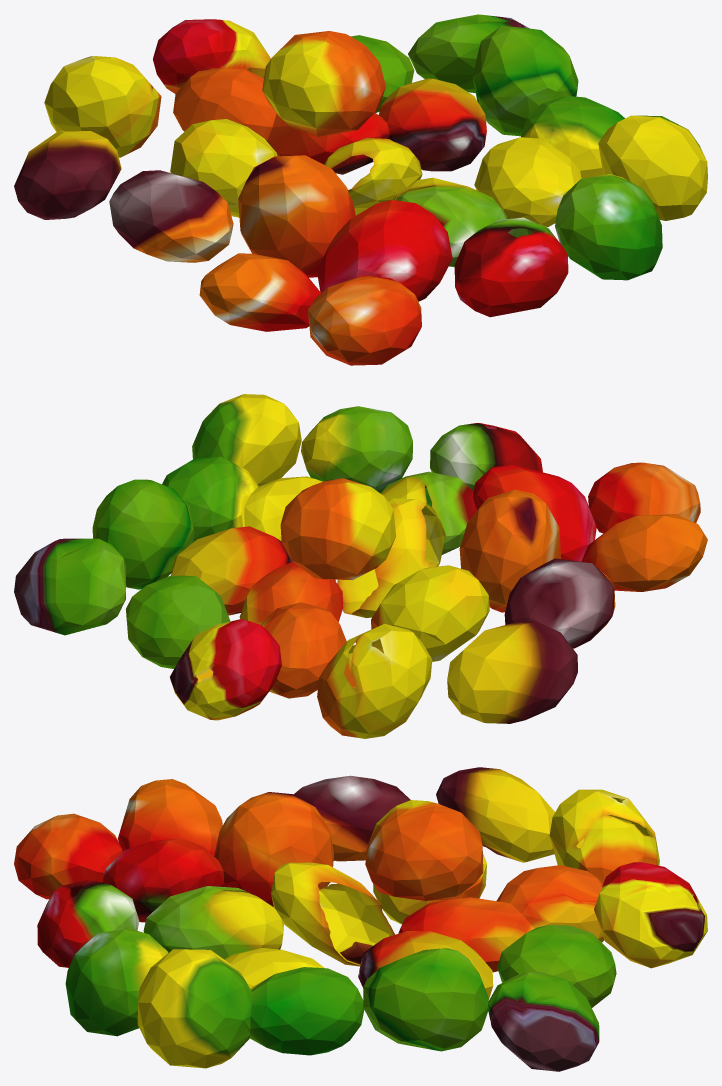
File: SkittlesG.fbx
The picture shows the model from 3 angles, top to bottom: view 1: azimuth 30°, elevation 25°; view 2: azimuth 150°, elevation 25°; view 3: azimuth 270°, elevation 25°; orthographic projection. The views are drawn at different scales.
Parts seen in each view (by area): view 1: Mesh1.0; view 2: Mesh1.0; view 3: Mesh1.0.
Boxes of the visible parts, bbox=[...] form: Mesh1.0: bbox=[14, 14, 707, 365]; Mesh1.0: bbox=[14, 394, 707, 738]; Mesh1.0: bbox=[14, 767, 707, 1071].
Bounding box in the file's own units: 170 × 44.99 × 190.
1 material, 1 textured.
